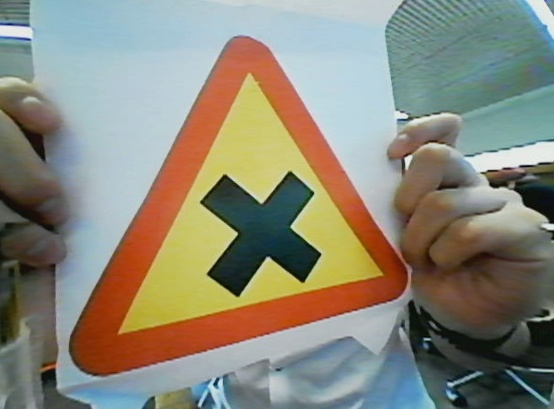junction: (59, 35, 413, 388)
